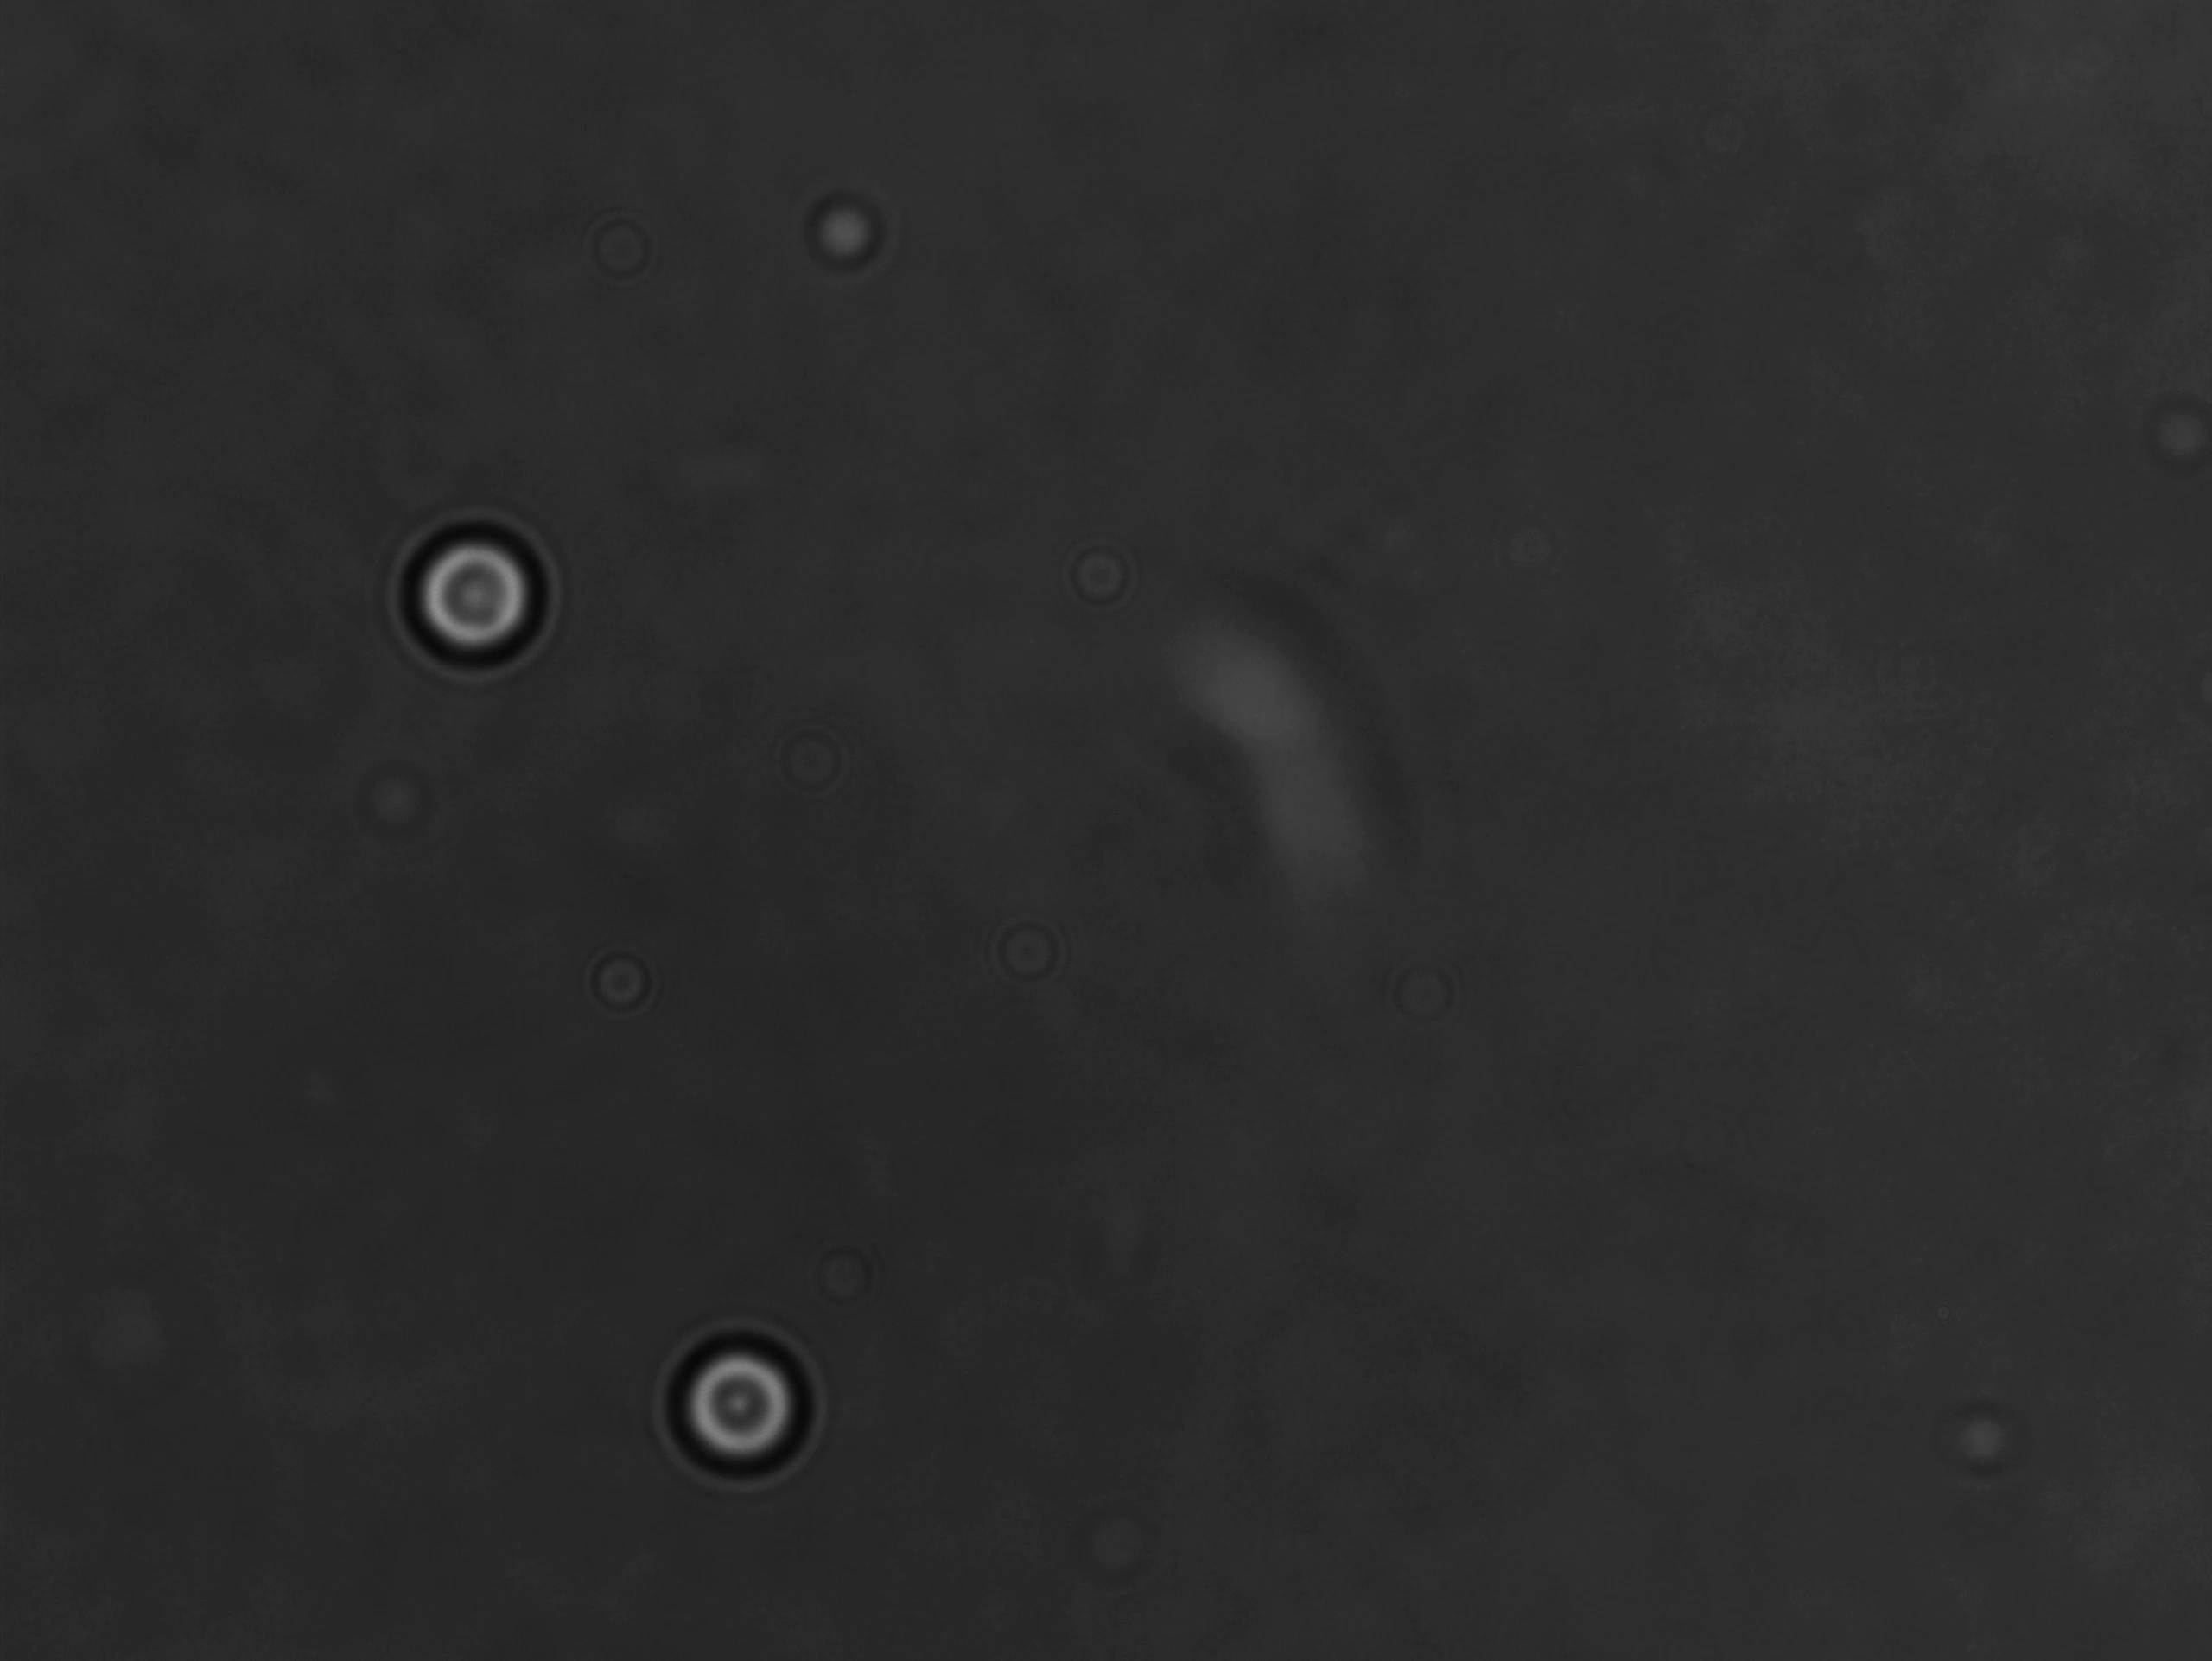depth:20: (654, 1317, 829, 1485), (403, 509, 551, 680)
